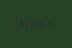eight: (37, 20, 41, 28)
one: (27, 19, 31, 27), (42, 20, 46, 28)
seven: (32, 19, 36, 28)
six: (17, 19, 21, 27)
three: (22, 19, 26, 27)
zero: (47, 20, 51, 28)
